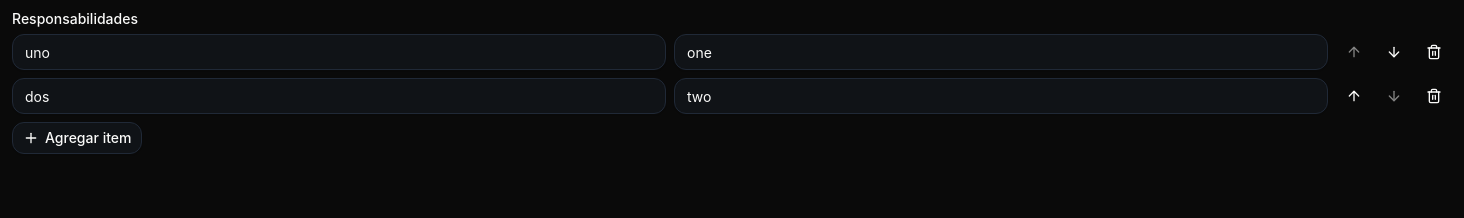
it: BiLangListEditor › Given el boton agregar When se clickea Then proyecta una fila vacia nueva
Click the button with test id "bilang-item-add": click(77, 138) 12,122 -> 142,154
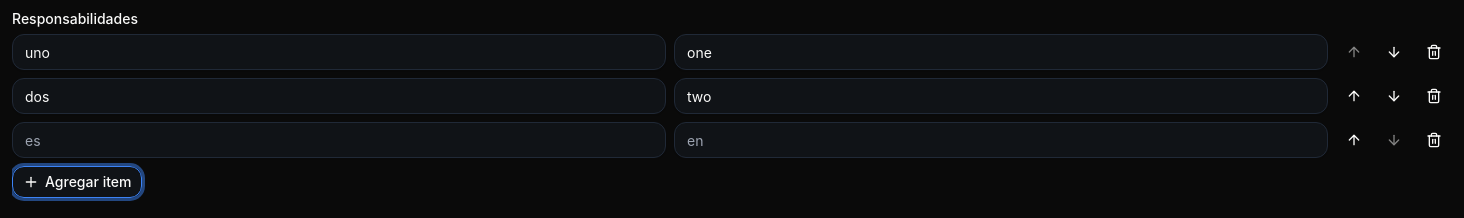
Expected: the number of list items with test id "bilang-item-row" is 3, 12,34 -> 1452,70; 12,78 -> 1452,114; 12,122 -> 1452,158
